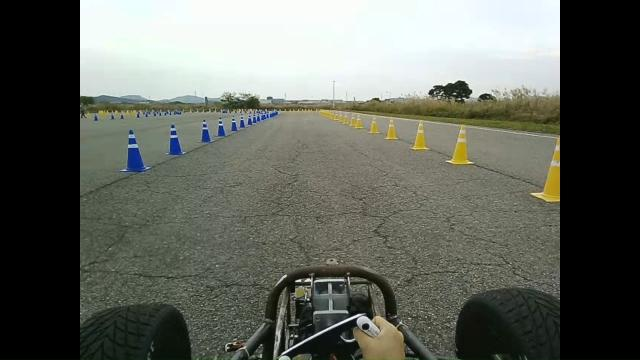blue cone: (116, 128, 154, 176), (166, 119, 188, 159), (198, 114, 216, 146), (218, 112, 231, 143), (230, 112, 241, 137)
yellow cone: (530, 136, 560, 203), (445, 124, 475, 165), (410, 120, 429, 150), (384, 118, 398, 140), (368, 115, 380, 134), (551, 137, 560, 161), (354, 115, 363, 128), (348, 115, 356, 126), (342, 114, 349, 124)
